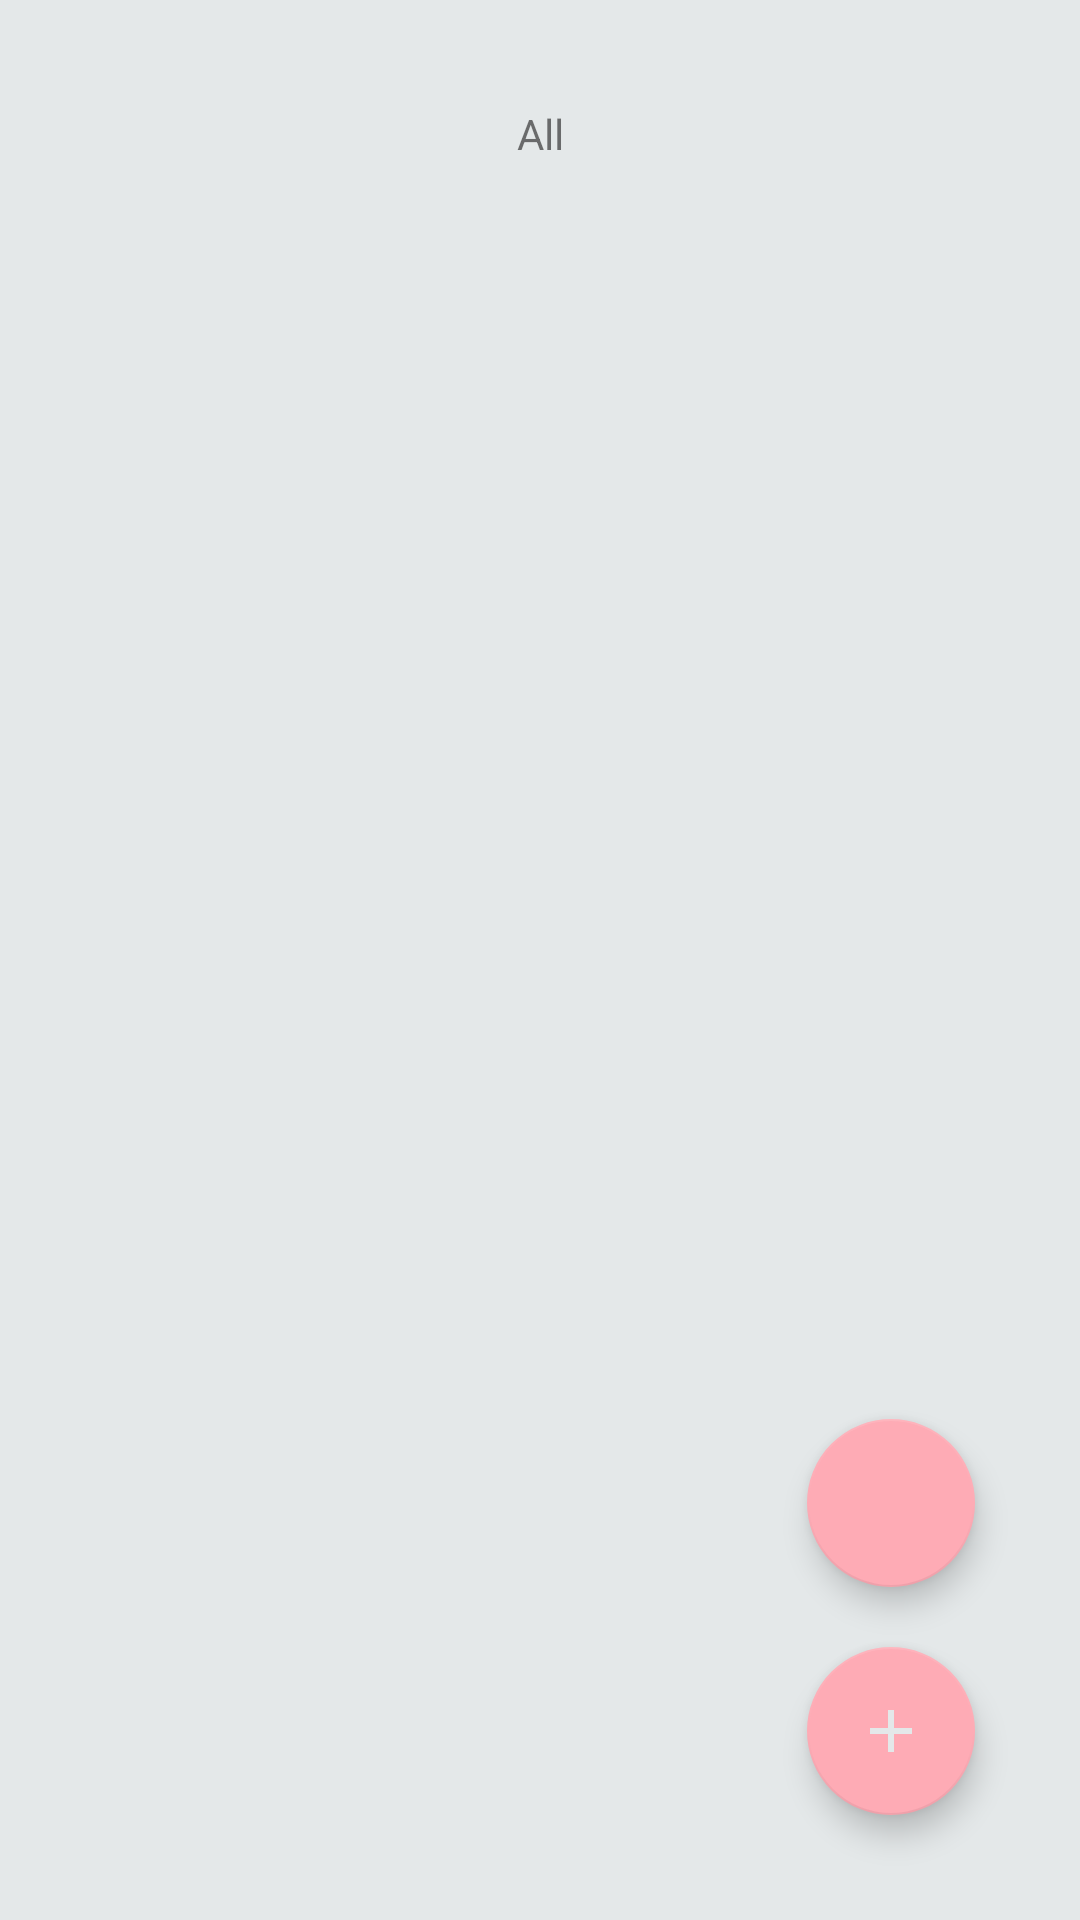

Icons on this 1080 × 1920 Android screen, each with the point to tap as point (x, y):
add: point (891, 1731)
